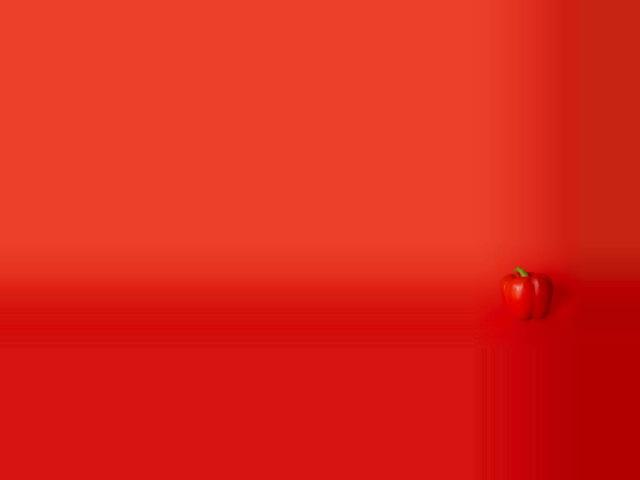bell_pepper: (502, 265, 554, 324)
